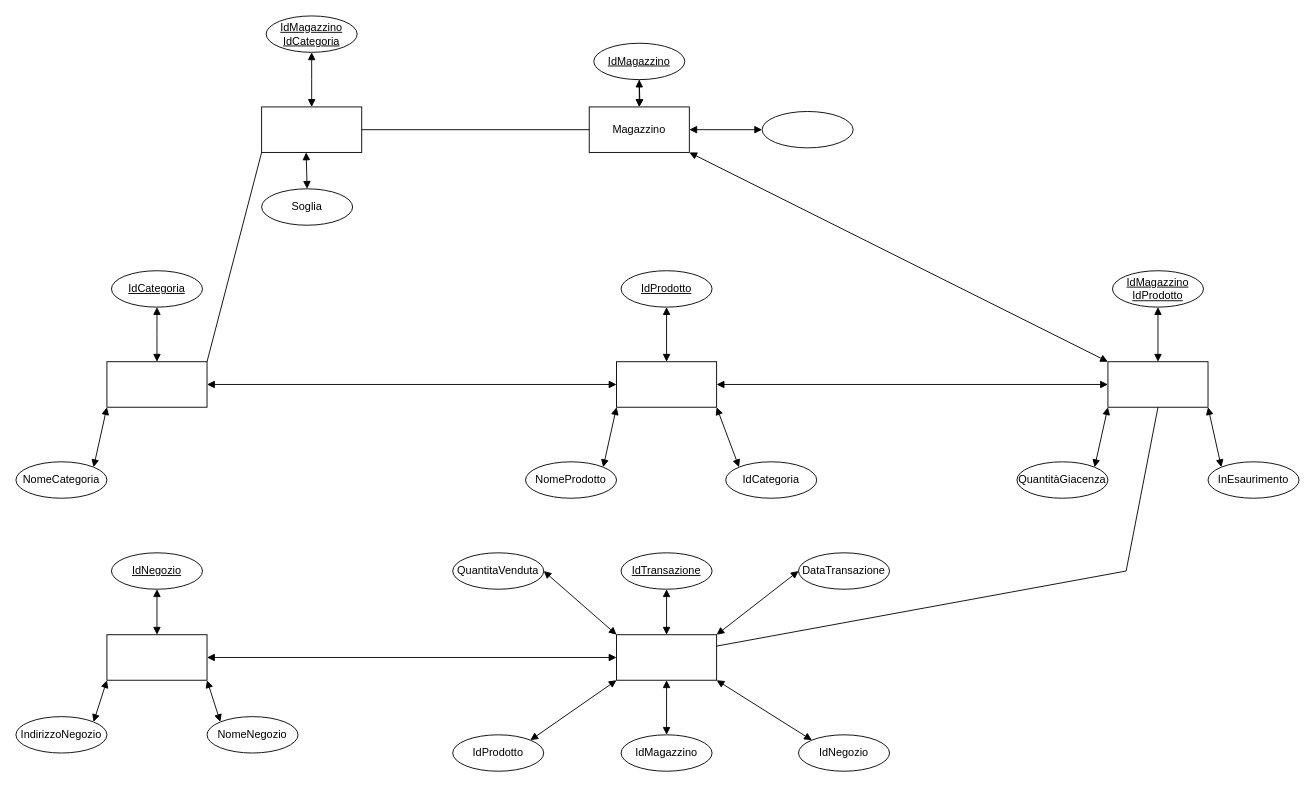
This 1315x787 diagram has some shape labels left out. Each missing label, with the box of its shape:
Categoria: (106, 361, 207, 407)
Inventario: (1107, 361, 1208, 407)
Negozio: (106, 634, 207, 680)
NomeMagazzino: (761, 111, 853, 148)
Prodotto: (616, 361, 717, 407)
SogliaRestock: (261, 106, 362, 152)
Transazione: (616, 634, 717, 680)
